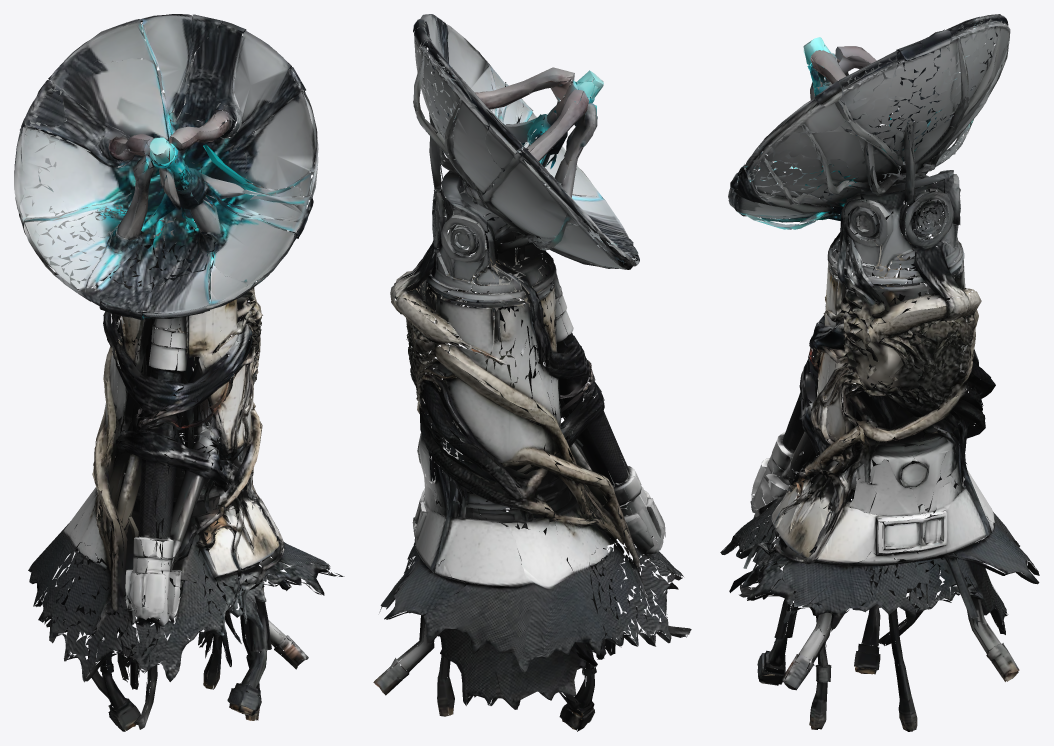
Rendered from scout_tachyon_radar_mast.glb.
The picture shows the model from 3 angles, left to right: view 1: azimuth 30°, elevation 25°; view 2: azimuth 150°, elevation 25°; view 3: azimuth 270°, elevation 25°; orthographic projection. The views are drawn at different scales.
Visible parts, largest first — view 1: node_0; view 2: node_0; view 3: node_0.
Boxes of the visible parts, x1,y1,x2,y2 form: node_0: [14, 14, 344, 731]; node_0: [373, 14, 691, 731]; node_0: [720, 14, 1039, 731].
Bounding box in the file's own units: 0.464 × 1.16 × 0.4806.
1 material, 1 textured.
